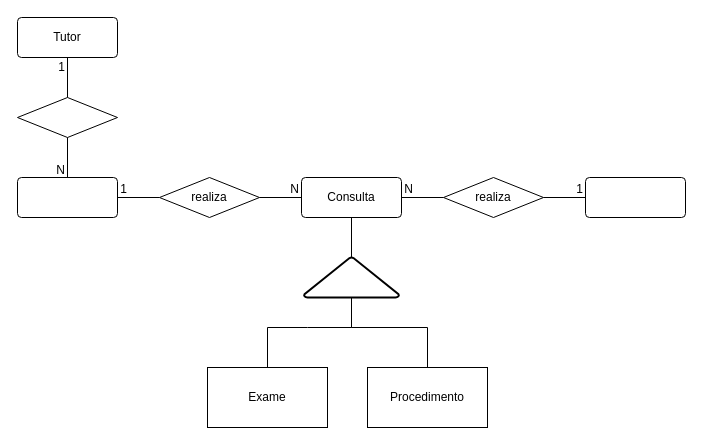
Image size: 703x445. Some labels were removed from this diagram. Here are the shapes that lost their labels. From the top down, the centre of each, then its label:
pixel 67 117: tem
pixel 67 197: Pet
pixel 635 197: Veterinario
